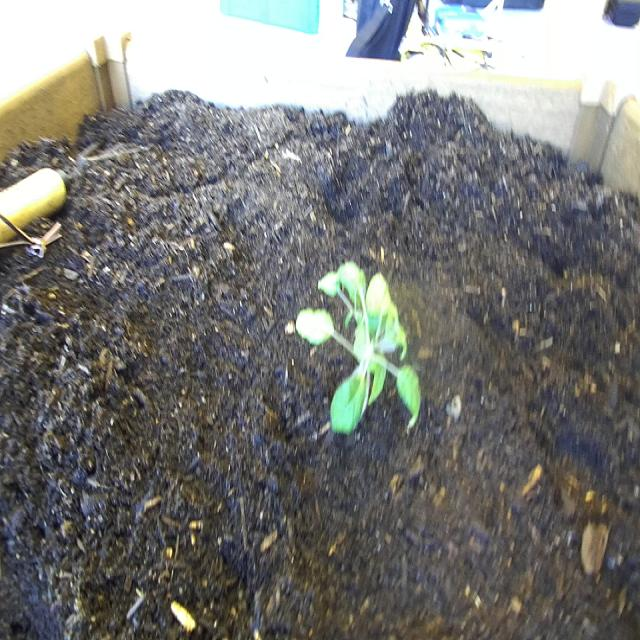Healthy: (290, 244, 430, 456)
